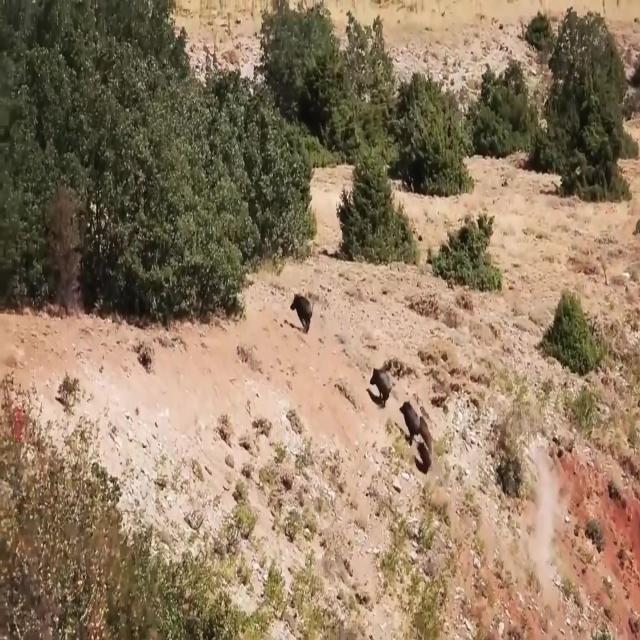pig: (288, 276, 322, 343), (362, 352, 391, 414), (399, 384, 412, 441), (416, 407, 424, 437)
